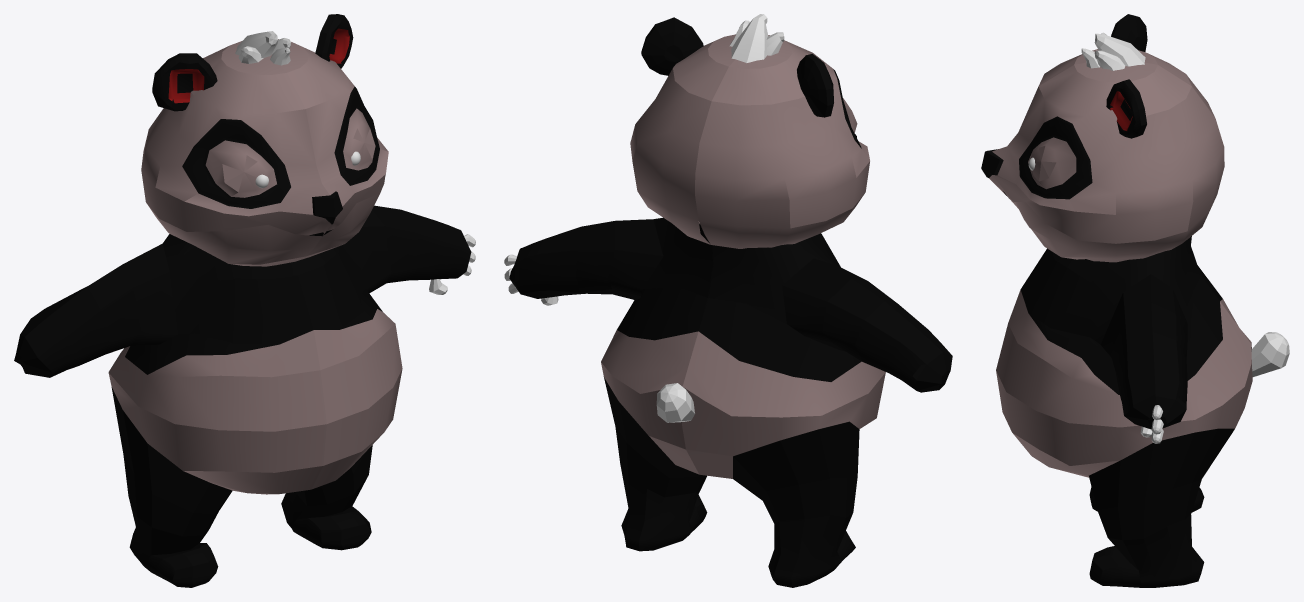
The model's file is wooopsy.fbx.
The picture shows the model from 3 angles, left to right: view 1: azimuth 30°, elevation 25°; view 2: azimuth 150°, elevation 25°; view 3: azimuth 270°, elevation 25°; orthographic projection. The views are drawn at different scales.
Parts seen in each view (by area): view 1: pSphere2, pSphere4, pSphere1, pSphere3, pPlane2, pPlane1, pSphere8; view 2: pSphere2, pSphere1, pSphere4, pSphere3, pPlane1, pPlane2, pSphere8, pSphere5; view 3: pSphere1, pSphere3, pPlane1, pSphere5, pSphere4, pSphere8, pPlane2, pSphere2, pSphere9.
Boxes of the visible parts, box(x1,y1,x2,y2) form: pSphere2: box(14, 234, 326, 587); pSphere4: box(141, 41, 335, 266); pSphere1: box(281, 205, 471, 550); pSphere3: box(271, 39, 388, 261); pPlane2: box(152, 53, 217, 111); pPlane1: box(315, 14, 353, 68); pSphere8: box(235, 31, 277, 57); pSphere2: box(682, 233, 952, 587); pSphere1: box(509, 217, 713, 551); pSphere4: box(695, 40, 869, 248); pSphere3: box(630, 34, 769, 244); pPlane1: box(641, 17, 703, 75); pPlane2: box(797, 54, 833, 117); pSphere8: box(731, 14, 768, 62); pSphere5: box(656, 383, 694, 422); pSphere1: box(996, 236, 1252, 587); pSphere3: box(981, 62, 1224, 262); pPlane1: box(1106, 79, 1146, 138); pSphere5: box(1251, 332, 1289, 377); pSphere4: box(986, 49, 1214, 208); pSphere8: box(1094, 33, 1145, 66); pPlane2: box(1111, 14, 1147, 51); pSphere2: box(1022, 236, 1251, 512); pSphere9: box(1094, 50, 1125, 70).
Bounding box in the file's own units: 4.42 × 4.95 × 2.72.
